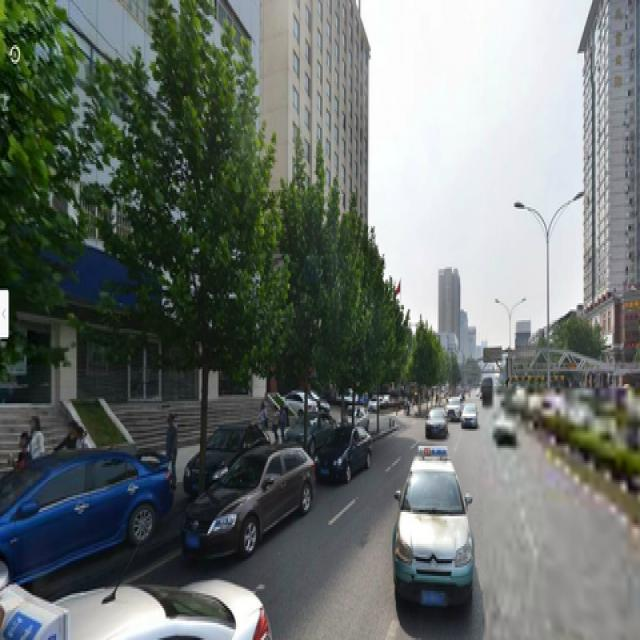meta: (105, 2, 292, 478)
